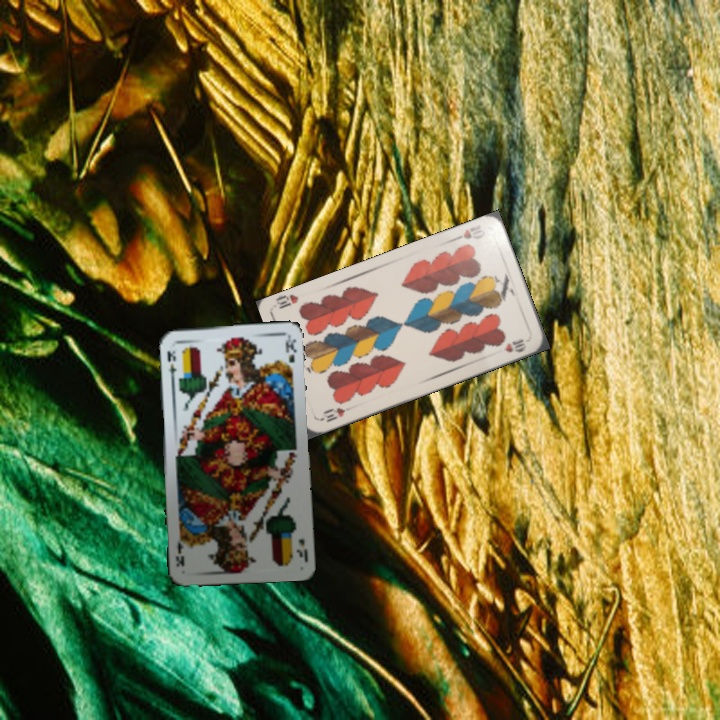EK: (163, 346, 179, 382), (292, 535, 310, 564)
H10: (449, 220, 488, 244), (316, 403, 348, 425)
